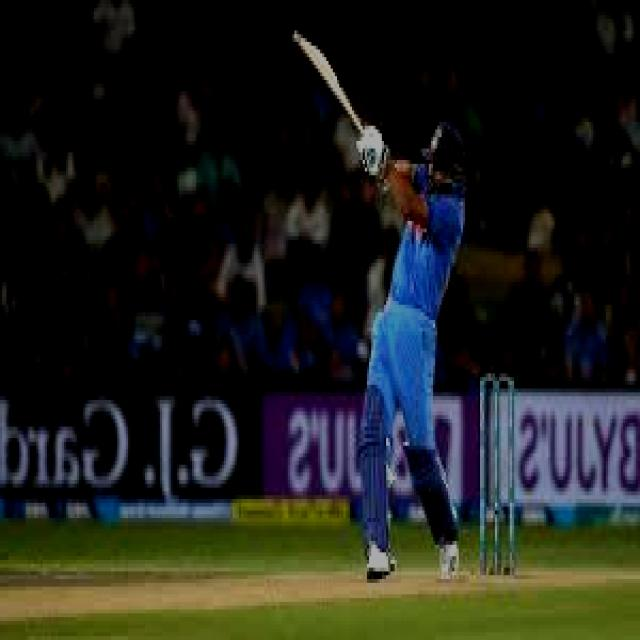toe: (287, 29, 318, 59)
